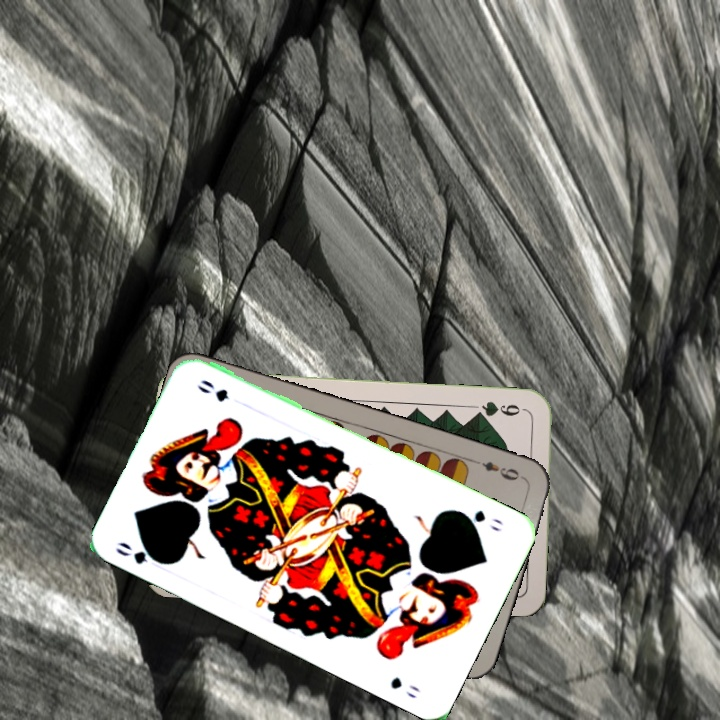E9: (478, 457, 527, 484)
G9: (470, 397, 529, 420)
GO: (111, 538, 170, 568), (454, 506, 506, 535)
